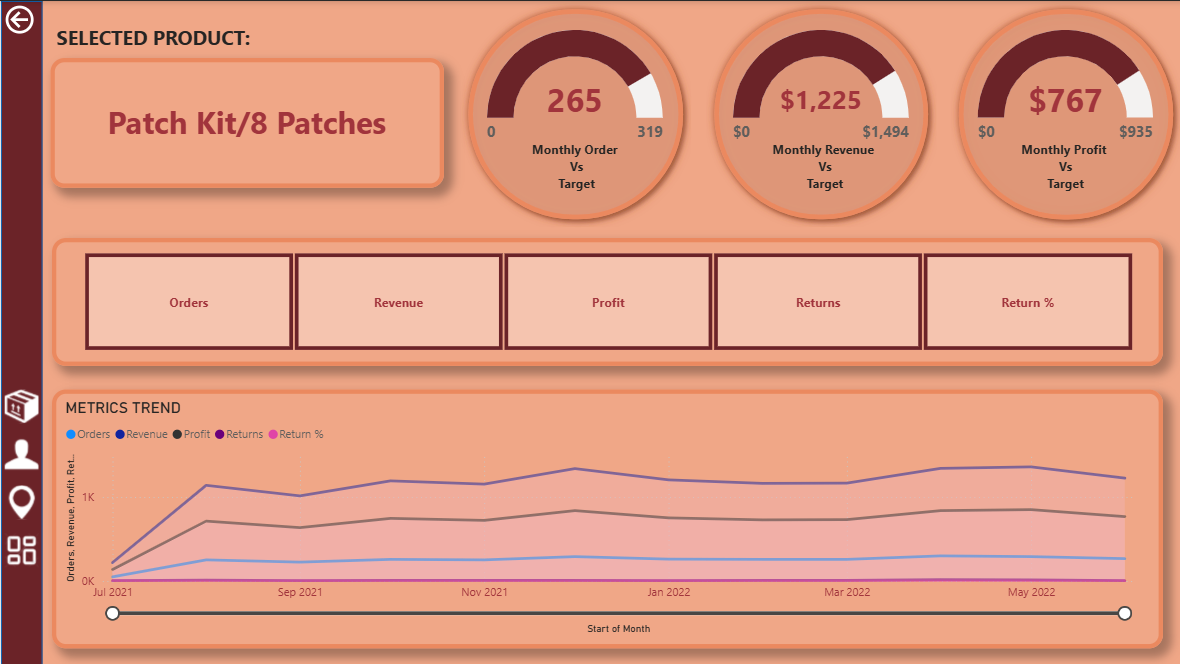

The page's visual inventory and layout, read from the dashboard file:
{"tool":"powerbi","page":{"name":"Product New","canvas":[1280,720],"ordinal":9},"visuals":[{"type":"shape","box":[497.3,0,250.9,245.6],"z":0},{"type":"actionButton","box":[0,569.6,44.8,52.3],"z":0,"group":"g1"},{"type":"gauge","title":"Monthly Orders vs Target","fields":{"Y":["Table Measure.Total Orders"],"MaxValue":["Table Measure.Order Target"]},"box":[516.4,26.5,212.8,136.6],"z":1000},{"type":"actionButton","box":[0,465.1,44.8,52.3],"z":1000,"group":"g1"},{"type":"shape","box":[1029.5,0,250.5,245.9],"z":2000},{"type":"actionButton","box":[0,517.4,44.8,52.3],"z":2000,"group":"g1"},{"type":"gauge","title":"Monthly Profit vs Target","fields":{"Y":["Table Measure.Total Profit"],"MaxValue":["Table Measure.Profit Target"]},"box":[1047.9,26.7,212.7,136.3],"z":3000},{"type":"actionButton","box":[0,412.8,44.8,52.3],"z":3000,"group":"g1"},{"type":"shape","box":[764.4,0,249.9,245.6],"z":4000},{"type":"gauge","title":"Monthly Revenue vs Target","fields":{"Y":["Table Measure.Total Revenue"],"MaxValue":["Table Measure.Target Revenue"]},"box":[782.4,26.5,212.8,136.6],"z":5000},{"type":"textbox","box":[560.9,146.1,126,67.8],"z":6000},{"type":"textbox","box":[825.8,146.1,134.5,67.8],"z":7000},{"type":"textbox","box":[1091.5,146.1,126,67.8],"z":8000},{"type":"areaChart","title":"METRICS TREND","fields":{"Y":["Table Measure.Total Orders","Table Measure.Total Revenue","Table Measure.Total Profit","Table Measure.Total Returns","Table Measure.Return Rate"],"Category":["Calendar Lookup.Start of Year","Calendar Lookup.Start of Month","Calendar Lookup.Start of Week"]},"box":[55.3,420.6,1204.7,281],"z":10000},{"type":"slicer","fields":{"Values":["Product Matric Selection.Product Matric Selection"]},"box":[55.3,256.4,1204.7,138.7],"z":11000},{"type":"shape","box":[0,0,45,720],"z":12000},{"type":"card","fields":{"Values":["Min(Product Lookup.ProductName)"]},"box":[54.3,62.6,426.4,140.9],"z":13000},{"type":"textbox","box":[55.3,20.3,237.6,38.7],"z":14000},{"type":"group","id":"g1","title":"Custom Navigation Button","box":[0,412.8,44.8,209.1],"z":15000},{"type":"actionButton","box":[0,0,44.8,40.4],"z":16000}]}

Visuals, with their boxes on the page's 1280x720 design canvas (x1, y1, x2, y2). These are canvas units, not pixel positions in the 1180x664 screenshot, which may show the page scaled, cropped or inside an application window:
shape: left=497, top=0, right=748, bottom=246
actionButton: left=0, top=570, right=45, bottom=622
"Monthly Orders vs Target" gauge: left=516, top=26, right=729, bottom=163
actionButton: left=0, top=465, right=45, bottom=517
shape: left=1030, top=0, right=1280, bottom=246
actionButton: left=0, top=517, right=45, bottom=570
"Monthly Profit vs Target" gauge: left=1048, top=27, right=1261, bottom=163
actionButton: left=0, top=413, right=45, bottom=465
shape: left=764, top=0, right=1014, bottom=246
"Monthly Revenue vs Target" gauge: left=782, top=26, right=995, bottom=163
textbox: left=561, top=146, right=687, bottom=214
textbox: left=826, top=146, right=960, bottom=214
textbox: left=1092, top=146, right=1218, bottom=214
"METRICS TREND" areaChart: left=55, top=421, right=1260, bottom=702
slicer - Product Matric Selection.Product Matric Selection: left=55, top=256, right=1260, bottom=395
shape: left=0, top=0, right=45, bottom=720
card - Min(Product Lookup.ProductName): left=54, top=63, right=481, bottom=204
textbox: left=55, top=20, right=293, bottom=59
"Custom Navigation Button" group: left=0, top=413, right=45, bottom=622
actionButton: left=0, top=0, right=45, bottom=40
